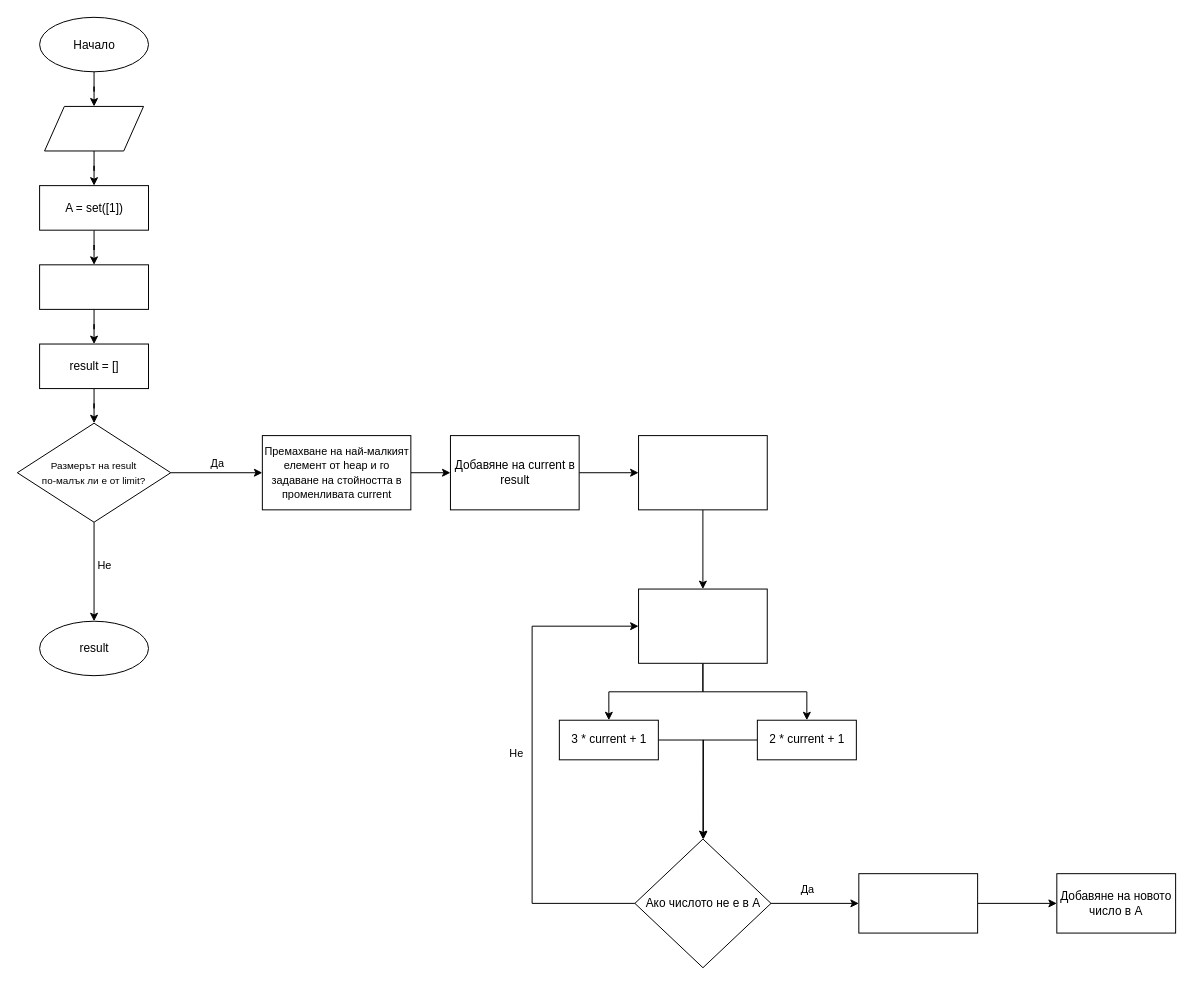
Some shapes in this 1193 by 985 pixel diagram are drawn without their labels. The centre of each missing label's shape, as x and y in pixels:
"heap = [1]" goes at pixel 93 286.
"limit" goes at pixel 94 128.
"Генериране на нови числа, базирани на current" goes at pixel 702 472.
"Добавяне на новото число в heap" goes at pixel 918 903.
"Итериране през списъка с формули за новите числа" goes at pixel 702 625.
